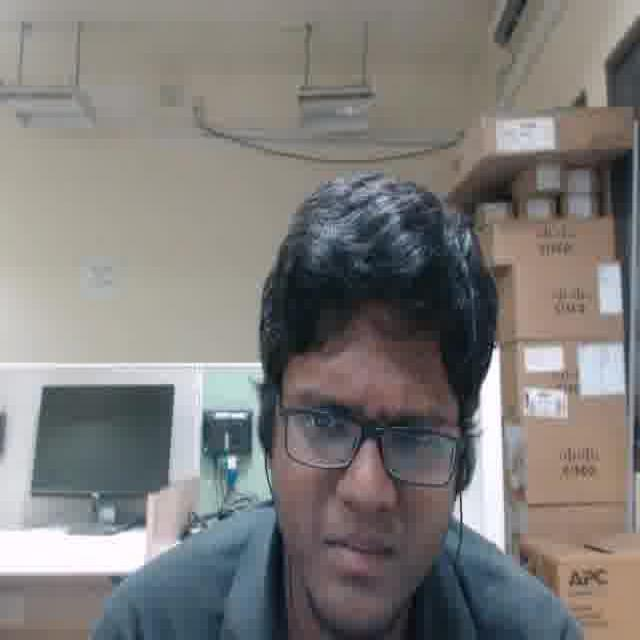Confusion: (269, 323, 443, 608)
